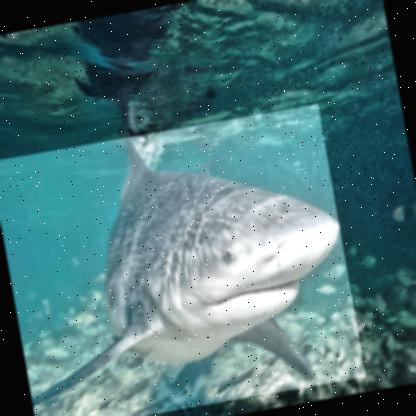bulldog-shark: (0, 103, 366, 415)
